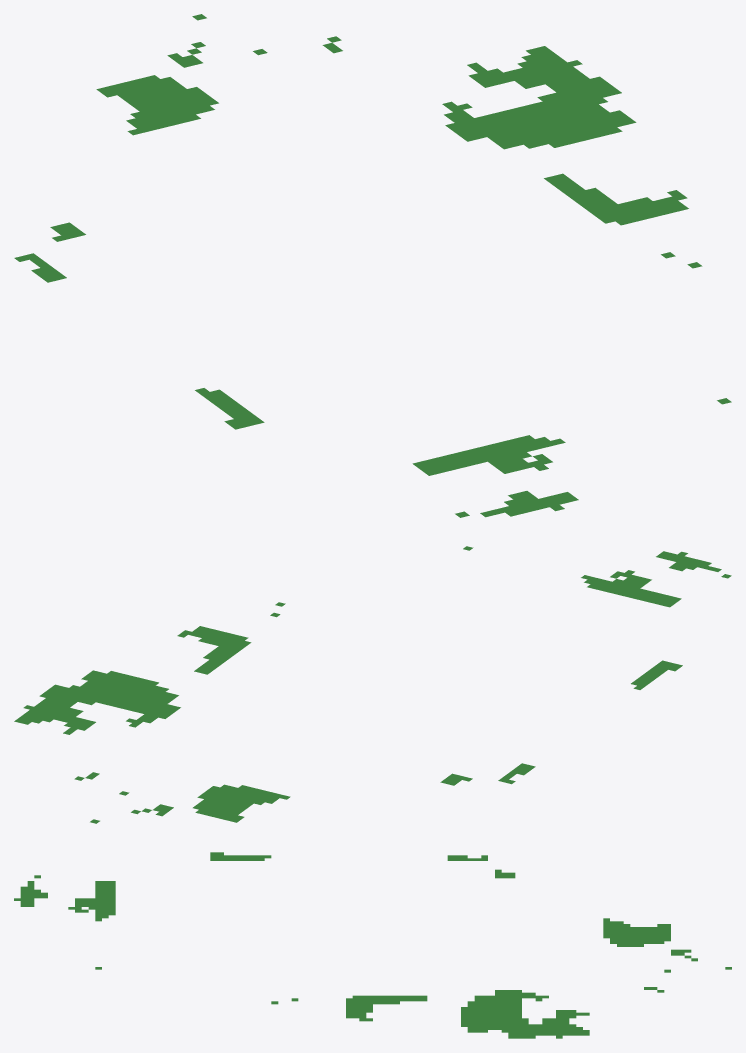
File: Isl-orc6-TreesArea.fbx
3 views of the same model, one above another, from view 1: azimuth 30°, elevation 25°; view 2: azimuth 150°, elevation 25°; view 3: azimuth 270°, elevation 25° (orthographic). The views are drawn at different scales.
Parts seen in each view (by area): view 1: Isl-orc6-TreesArea; view 2: Isl-orc6-TreesArea; view 3: Isl-orc6-TreesArea.
Boxes of the visible parts, box(x1,y1,x2,y2) form: Isl-orc6-TreesArea: box(14, 14, 731, 517); Isl-orc6-TreesArea: box(14, 546, 731, 823); Isl-orc6-TreesArea: box(14, 852, 731, 1038).
Bounding box in the file's own units: 65 × 0 × 106.
